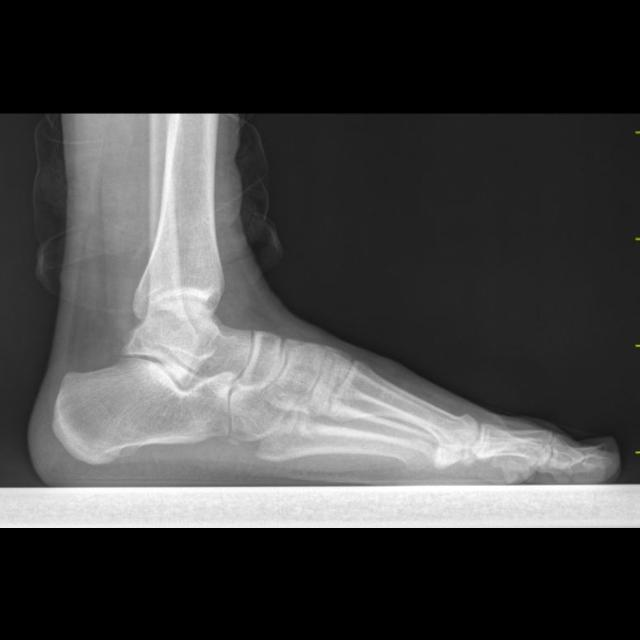a: (52, 357, 235, 464)
b: (239, 331, 282, 392)
c: (333, 360, 478, 470)
